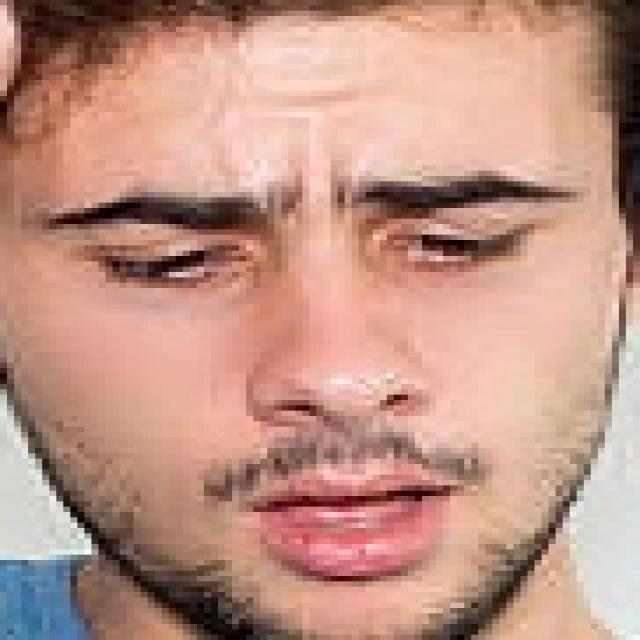Anxiety: (7, 5, 625, 635)
